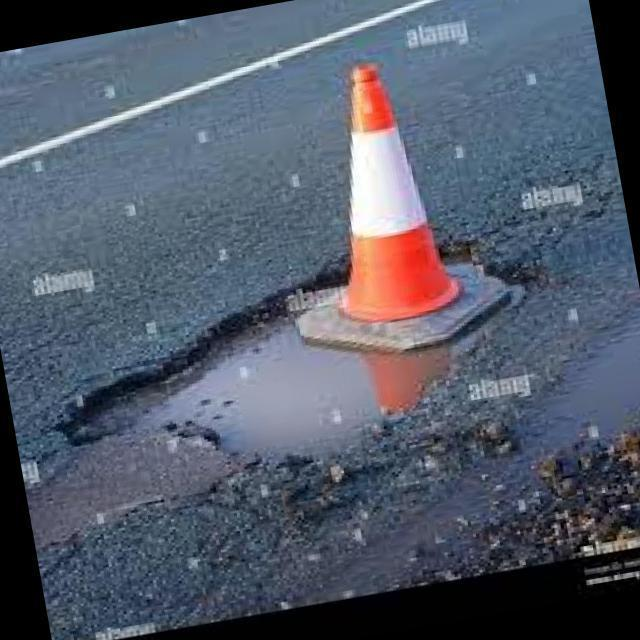Pothole: (50, 309, 450, 453)
